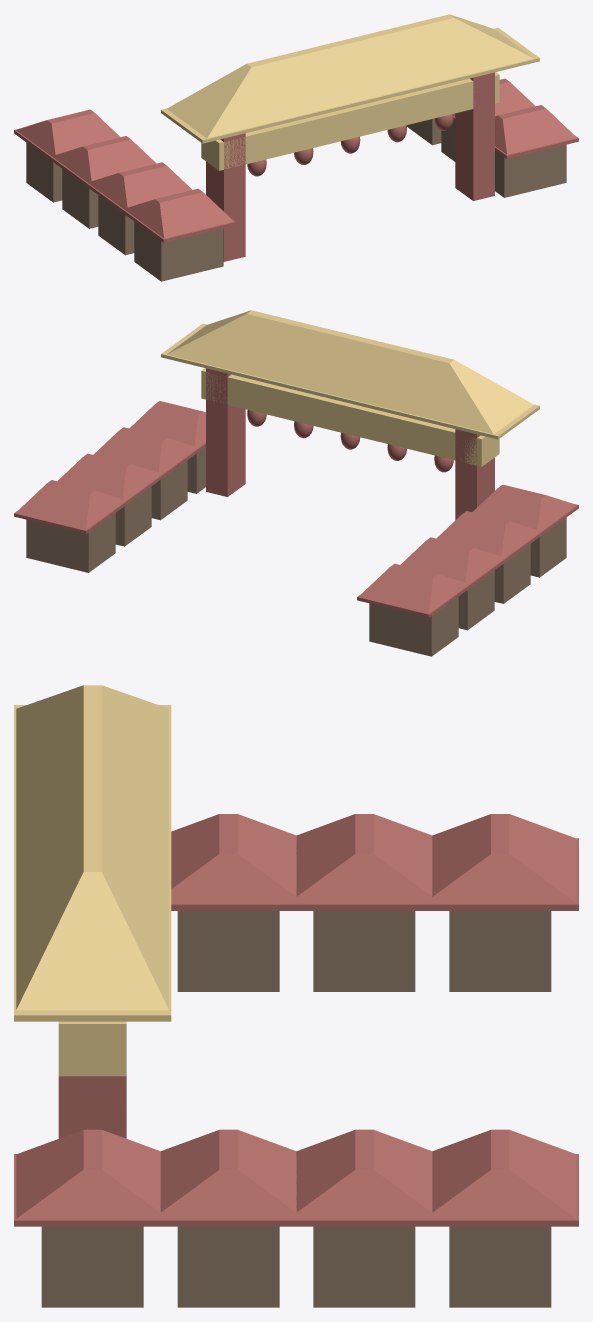
The model's file is market.glb.
3 views of the same model, one above another, from view 1: azimuth 30°, elevation 25°; view 2: azimuth 150°, elevation 25°; view 3: azimuth 270°, elevation 25° (orthographic). The views are drawn at different scales.
Visible parts, largest first — view 1: market; view 2: market; view 3: market.
Boxes of the visible parts, bbox=[...] form: market: bbox=[14, 14, 578, 281]; market: bbox=[14, 310, 578, 656]; market: bbox=[14, 685, 578, 1307].
Bounding box in the file's own units: 26.64 × 11.12 × 16.64.
